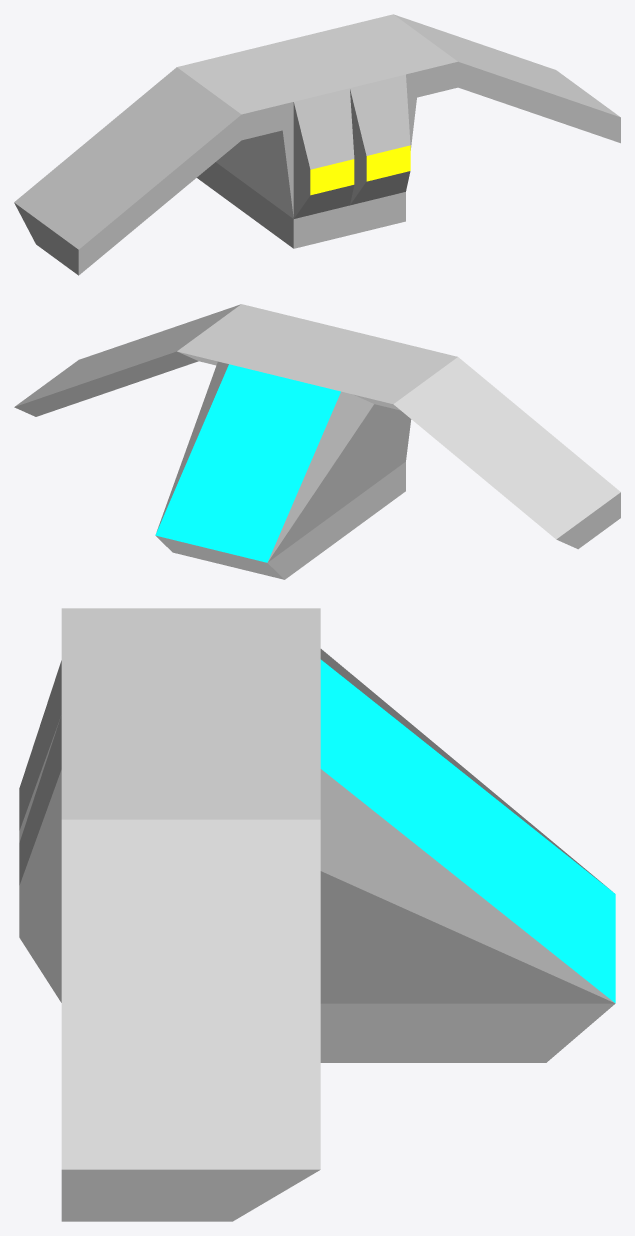
Rendered from ship1.glb.
3 views of the same model, one above another, from view 1: azimuth 30°, elevation 25°; view 2: azimuth 150°, elevation 25°; view 3: azimuth 270°, elevation 25° (orthographic). The views are drawn at different scales.
Visible parts, largest first — view 1: Cube; view 2: Cube; view 3: Cube.
Part boxes in pixels (box(x1,y1,x2,y2)): Cube: box(14, 14, 620, 275); Cube: box(14, 304, 620, 579); Cube: box(19, 608, 615, 1221).
Size of the model in its own units: 9.67 by 2.51 by 4.6.
